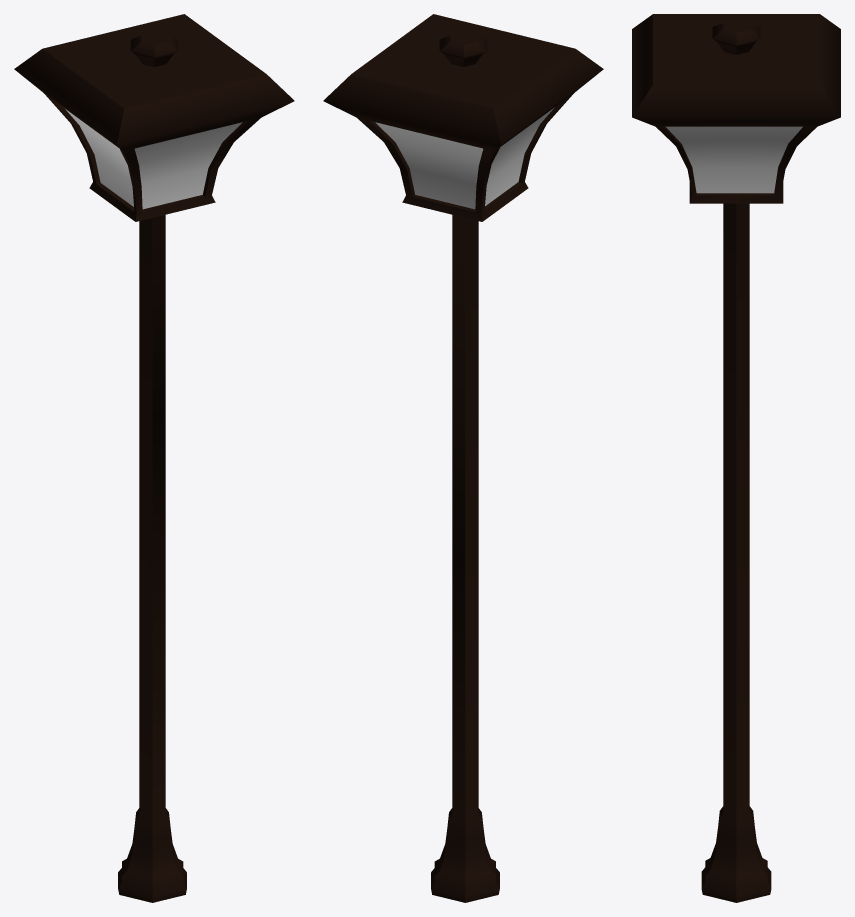
The model's file is street_lamp.fbx.
3 renders of one model, left to right at view 1: azimuth 30°, elevation 25°; view 2: azimuth 150°, elevation 25°; view 3: azimuth 270°, elevation 25°, orthographic.
Visible parts, largest first — view 1: StreetLamp; view 2: StreetLamp; view 3: StreetLamp.
Part boxes in pixels (x1,y1,x2,y2): StreetLamp: [14, 14, 294, 902]; StreetLamp: [323, 14, 603, 902]; StreetLamp: [632, 14, 840, 902].
Bounding box in the file's own units: 331 × 1505 × 331.
